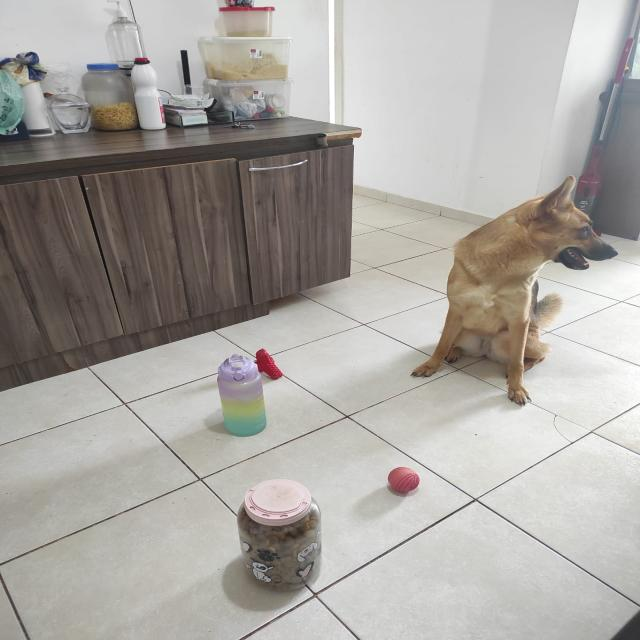bolinha: (384, 462, 429, 500)
brinquedo caro: (250, 343, 293, 382)
cachorro: (388, 173, 619, 418)
garrafinha de agua: (206, 352, 267, 442)
racao: (225, 477, 334, 598)
